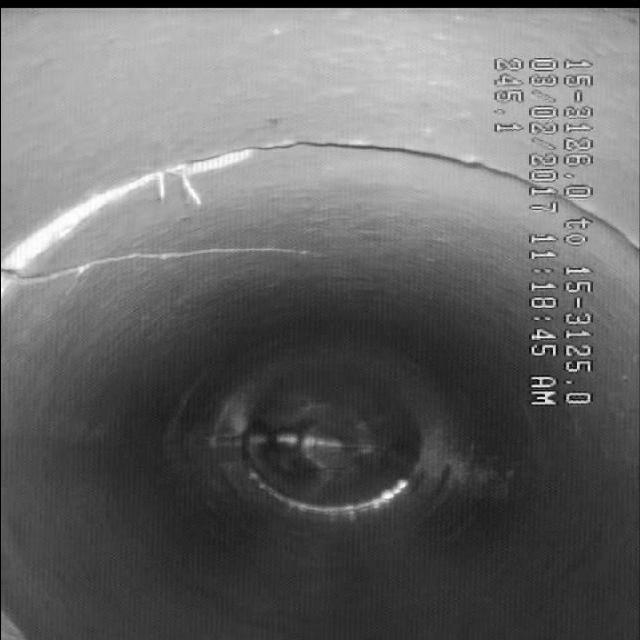Crack: (1, 202, 335, 317)
